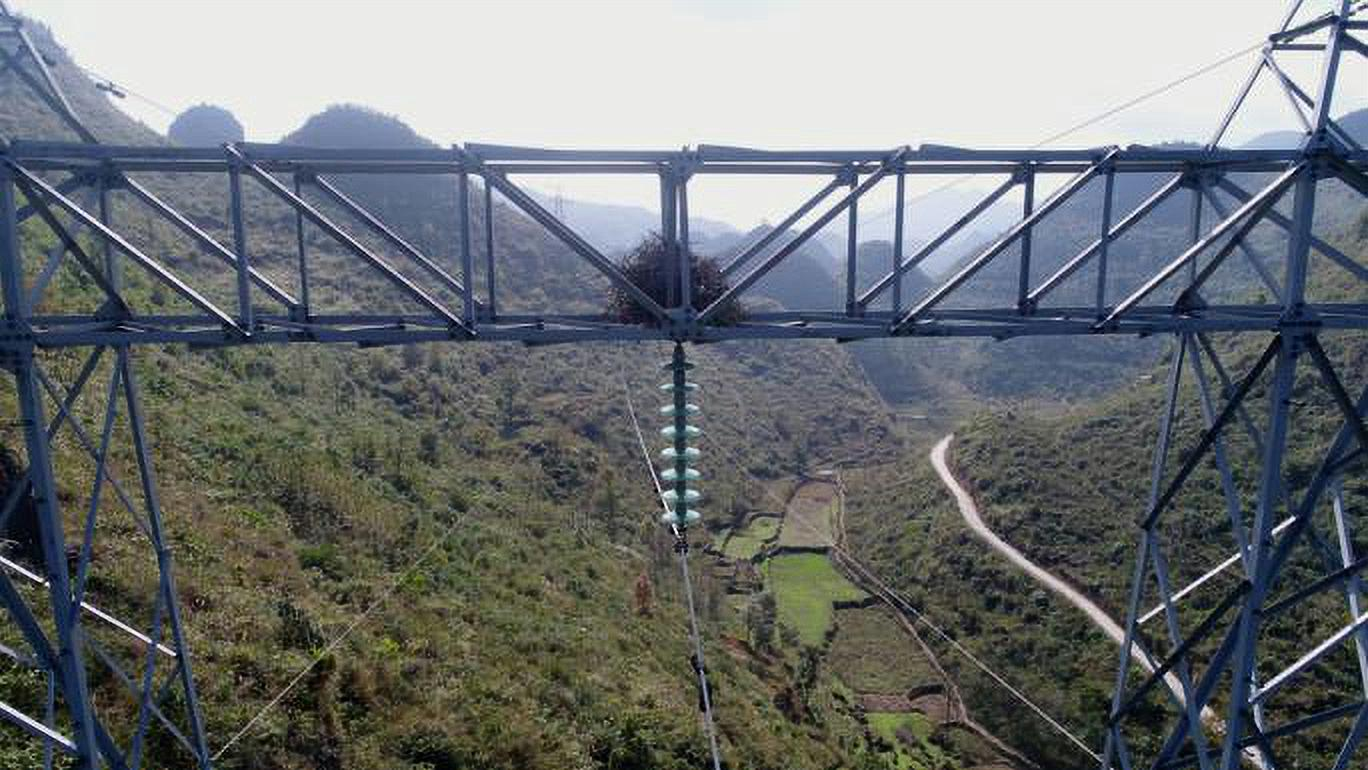insulator: (651, 353, 707, 535)
